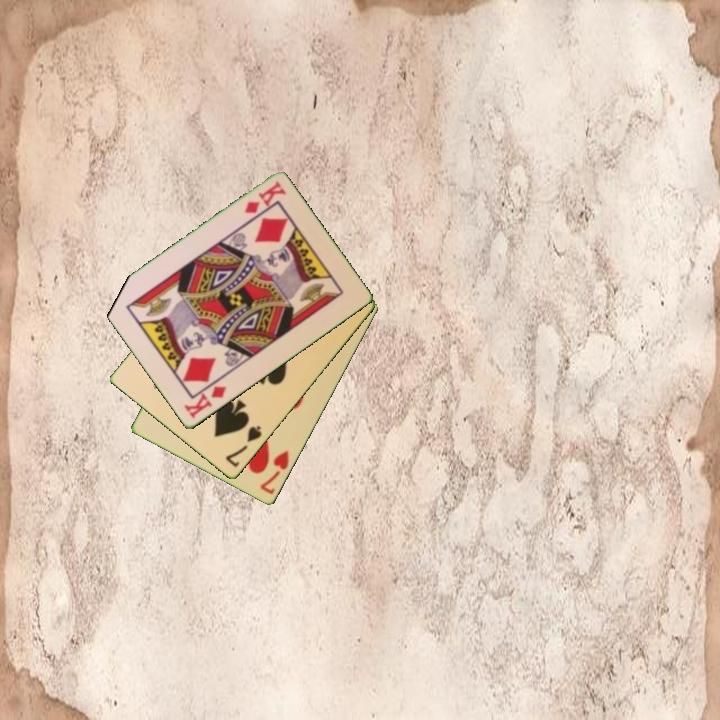7h: (256, 447, 292, 498)
7s: (222, 422, 265, 471)
Kd: (181, 382, 229, 422), (240, 178, 289, 217)
